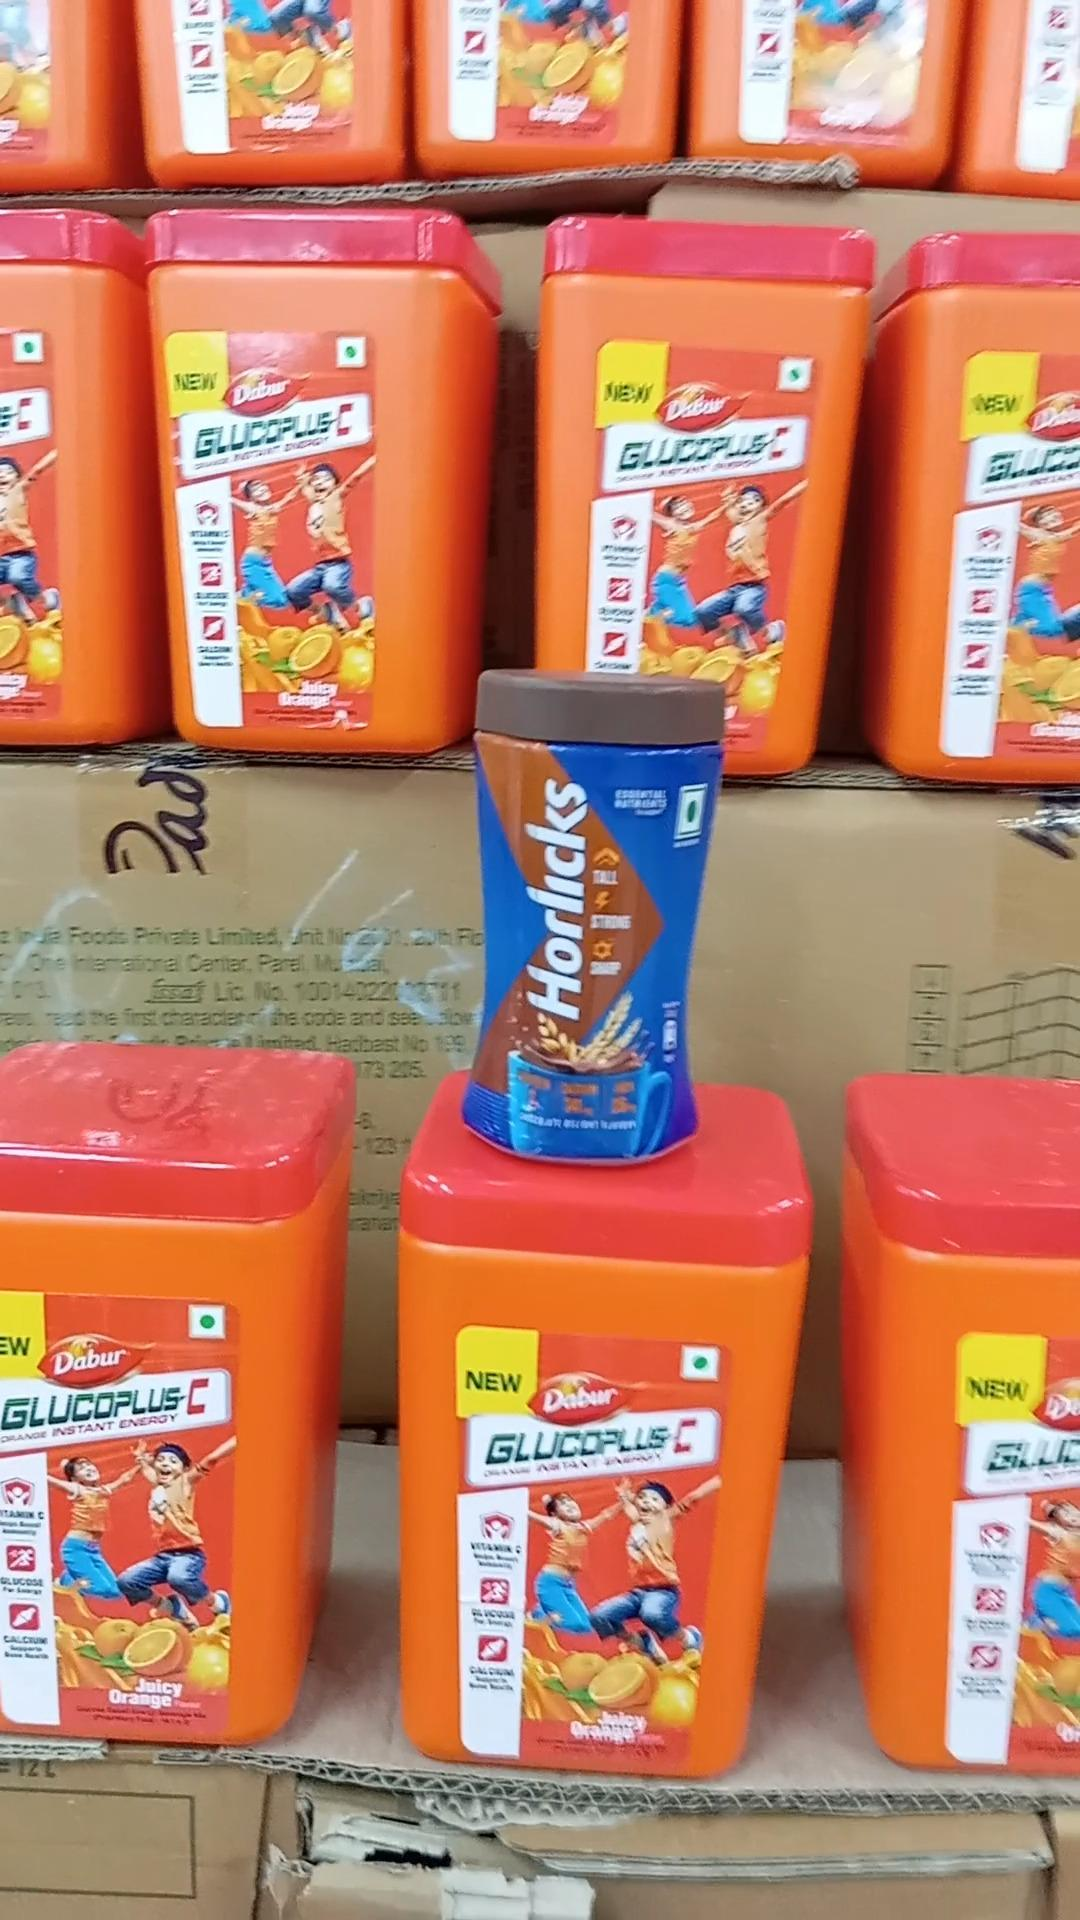HORLICK_CHOCOLATE_200_G_JAR: (472, 658, 703, 1182)
